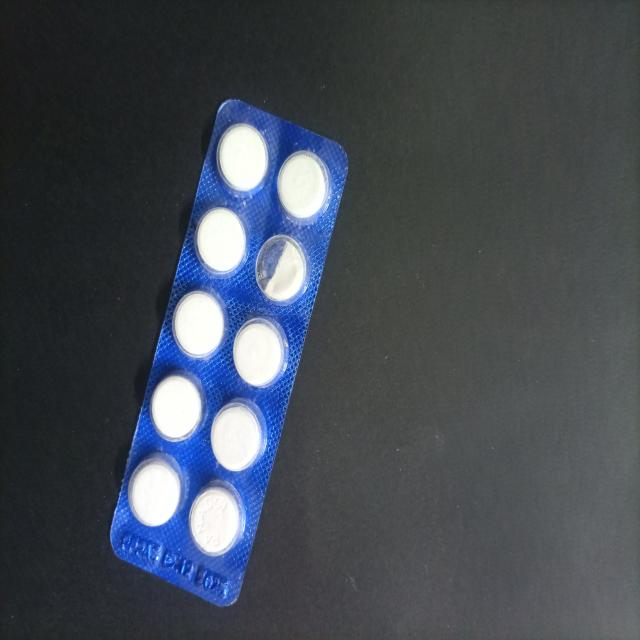defect: (253, 232, 312, 306)
